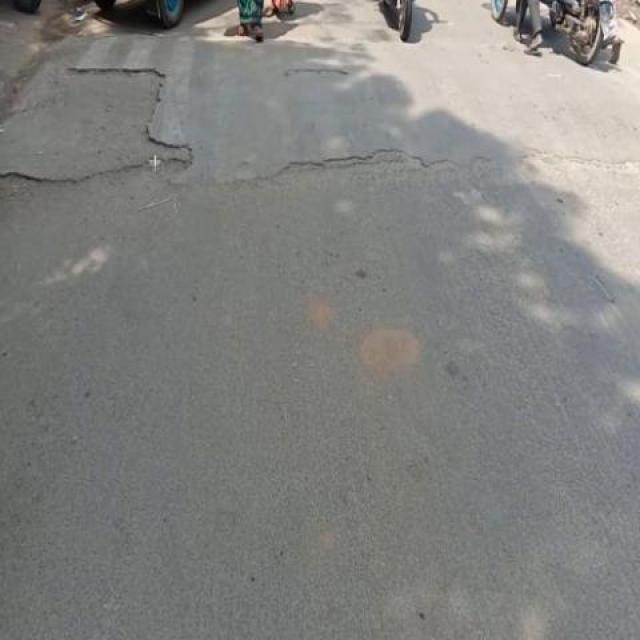Pothole: (12, 52, 206, 181), (231, 147, 640, 182), (274, 62, 370, 86)
Speed Bump: (1, 34, 639, 186)
